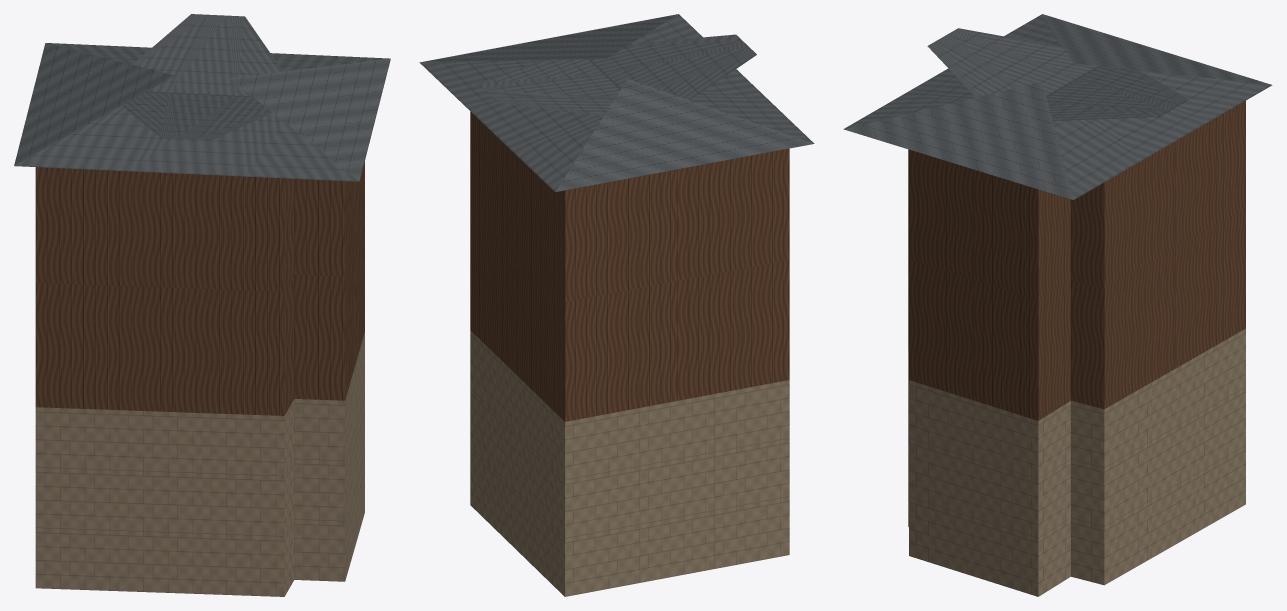
Rendered from bld_c-3_-5_570.gltf.
The picture shows the model from 3 angles, left to right: view 1: azimuth 30°, elevation 25°; view 2: azimuth 150°, elevation 25°; view 3: azimuth 270°, elevation 25°; orthographic projection. The views are drawn at different scales.
Parts seen in each view (by area): view 1: bld_c-3_-5_570; view 2: bld_c-3_-5_570; view 3: bld_c-3_-5_570.
Part boxes in pixels (box(x1,y1,x2,y2)): bld_c-3_-5_570: box(14, 14, 390, 596); bld_c-3_-5_570: box(419, 14, 814, 596); bld_c-3_-5_570: box(843, 14, 1272, 596).
Bounding box in the file's own units: 11.58 × 13.1 × 11.28.
3 materials, 3 textured.
